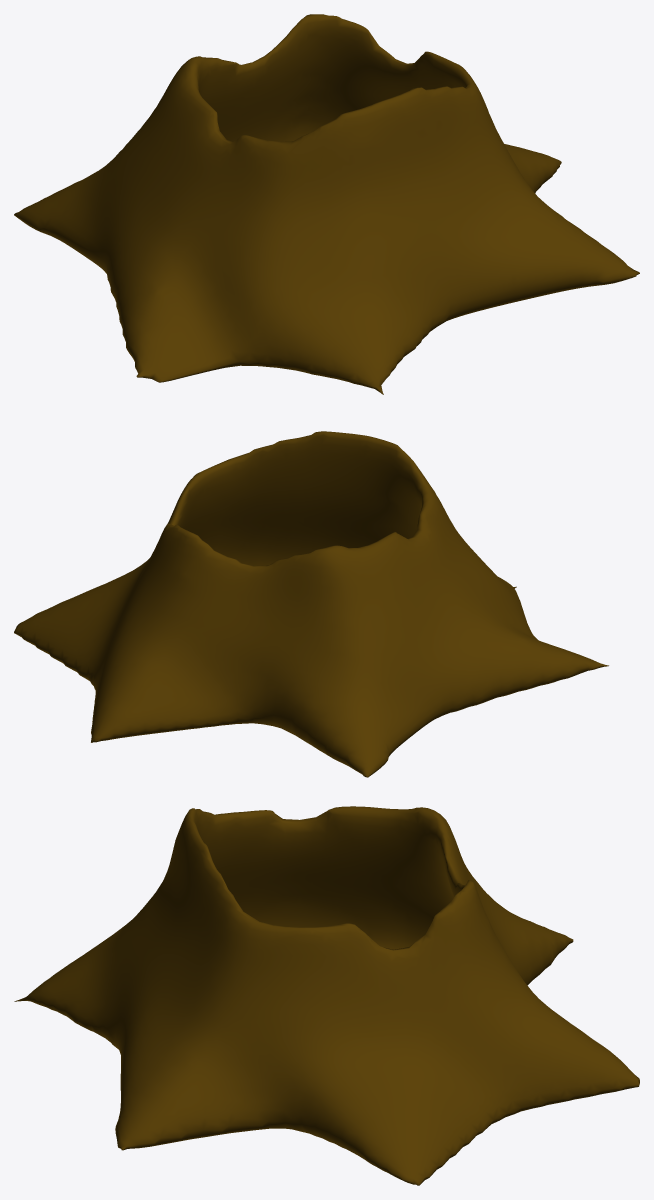
File: Stump3.glb
3 renders of one model, top to bottom at view 1: azimuth 30°, elevation 25°; view 2: azimuth 150°, elevation 25°; view 3: azimuth 270°, elevation 25°, orthographic. The views are drawn at different scales.
Parts seen in each view (by area): view 1: Stump3_wood; view 2: Stump3_wood; view 3: Stump3_wood.
Boxes of the visible parts, x1,y1,x2,y2 form: Stump3_wood: [14, 14, 639, 394]; Stump3_wood: [14, 431, 608, 777]; Stump3_wood: [14, 806, 639, 1185].
Bounding box in the file's own units: 2.76 × 1 × 2.56.
